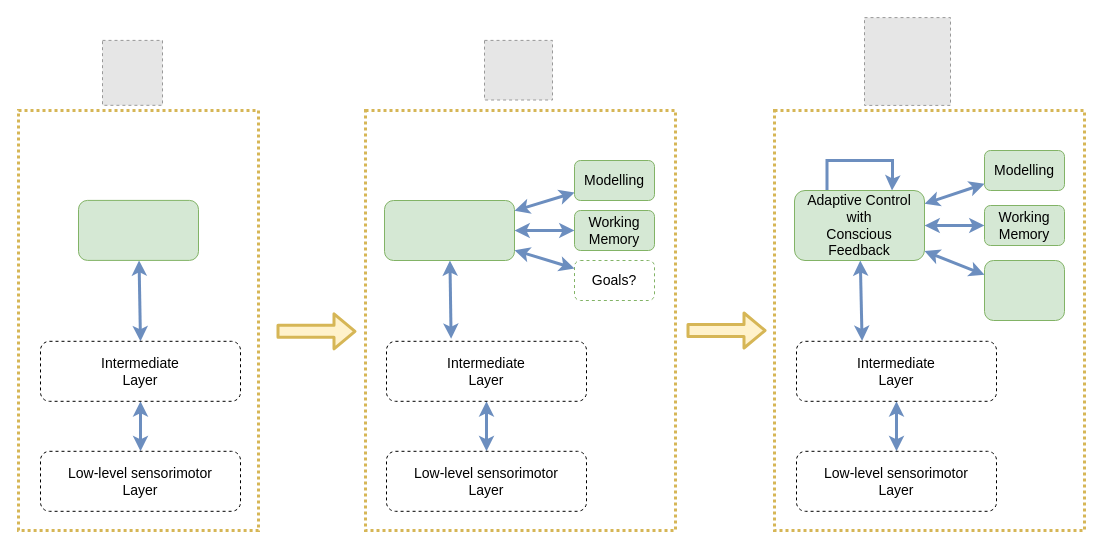
Image size: 1103x549. Some labels were removed from this diagram. Grey dashed boxes stand in for pictures. The shapes that lost their labels are listed below. From the top down, each one's box as (x1, y1, x2, y2) in pixels, then its label:
(78, 199, 198, 260): Naive Policy
(384, 200, 514, 260): Adaptive Control Policy
(984, 260, 1064, 320): Self-driven Goals and Rewards
(16, 108, 260, 532): Simple Hierarchical Policy
(364, 108, 676, 532): Modelling Adaptive Control
(772, 108, 1086, 532): Self-aware Executive Control
